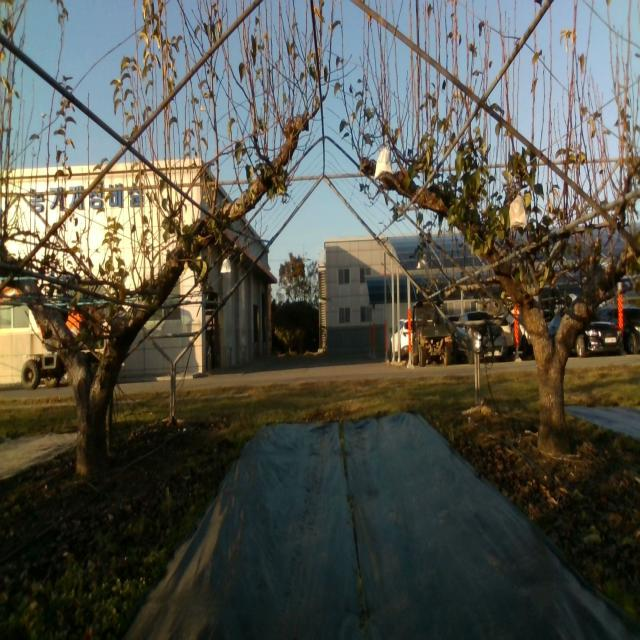pearbags: (509, 190, 529, 233), (374, 147, 393, 181)
